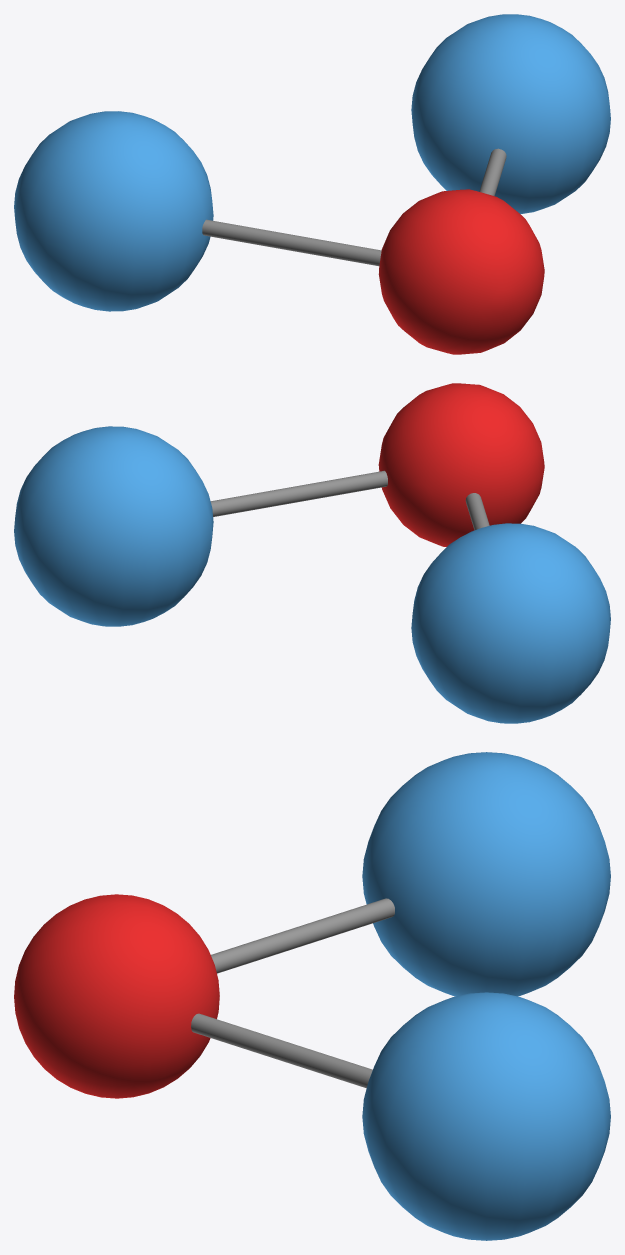
3 views of the same model, one above another, from view 1: azimuth 30°, elevation 25°; view 2: azimuth 150°, elevation 25°; view 3: azimuth 270°, elevation 25° (orthographic). The views are drawn at different scales.
Visible parts, largest first — view 1: Na2O; view 2: Na2O; view 3: Na2O.
Boxes of the visible parts, <box> form: Na2O: <box>14,14,610,354</box>; Na2O: <box>14,383,610,723</box>; Na2O: <box>14,752,610,1240</box>.
Size of the model in its own units: 7.34 by 2.23 by 5.36.
